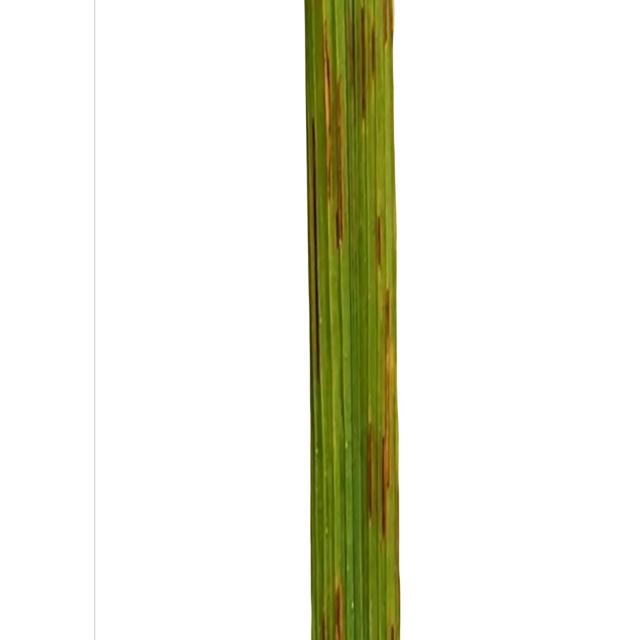Narrow brown: (262, 0, 514, 640)
